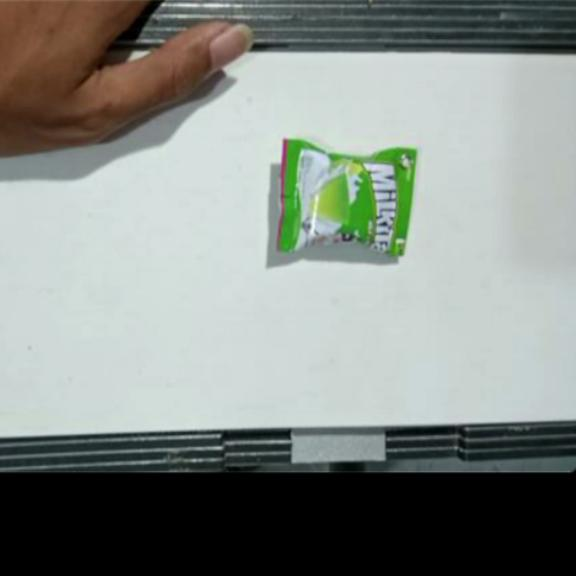Plastik: (278, 137, 418, 258)
